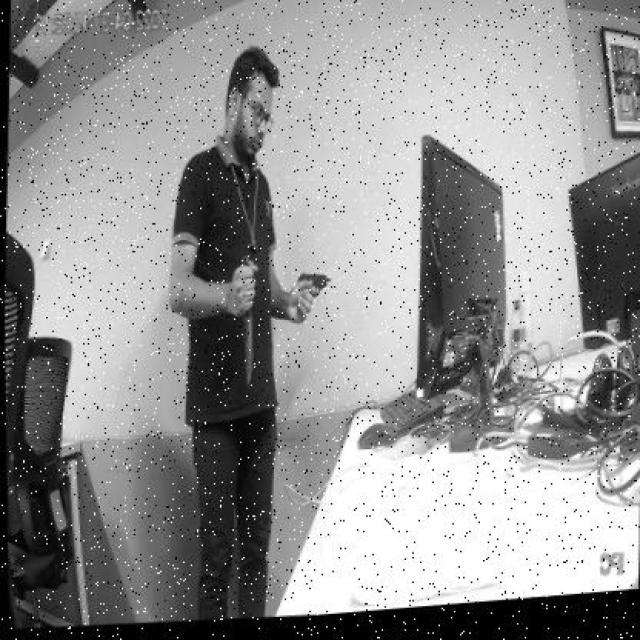weapon: (294, 269, 332, 308)
